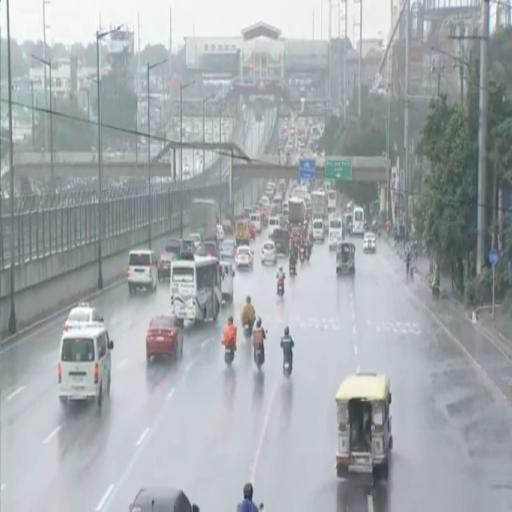bus: (171, 254, 221, 325), (352, 207, 364, 235), (327, 189, 336, 215)
car: (58, 326, 113, 407), (146, 314, 183, 360), (129, 487, 199, 511), (128, 250, 158, 293), (64, 303, 103, 331), (158, 252, 177, 281), (235, 246, 253, 268), (261, 240, 277, 264), (219, 239, 236, 259), (201, 242, 219, 259), (363, 232, 376, 252), (188, 233, 202, 249), (216, 224, 224, 243)
jeepney: (336, 374, 392, 482), (336, 243, 355, 275), (235, 219, 250, 246)
motorcycle: (254, 330, 267, 370), (254, 345, 264, 369), (283, 351, 292, 377), (225, 346, 235, 366), (244, 323, 253, 338), (277, 278, 284, 296), (432, 284, 440, 298), (289, 264, 296, 277), (300, 247, 305, 263), (306, 247, 311, 261), (409, 266, 413, 280)
truck: (190, 199, 218, 241), (289, 198, 305, 226), (311, 190, 326, 219)
